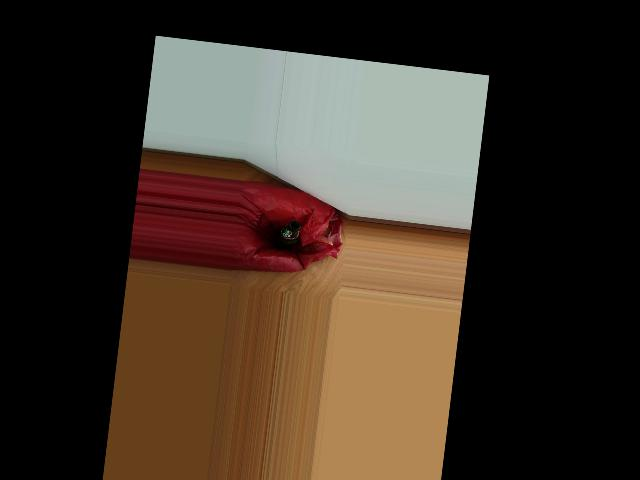beer: (274, 219, 301, 251)
